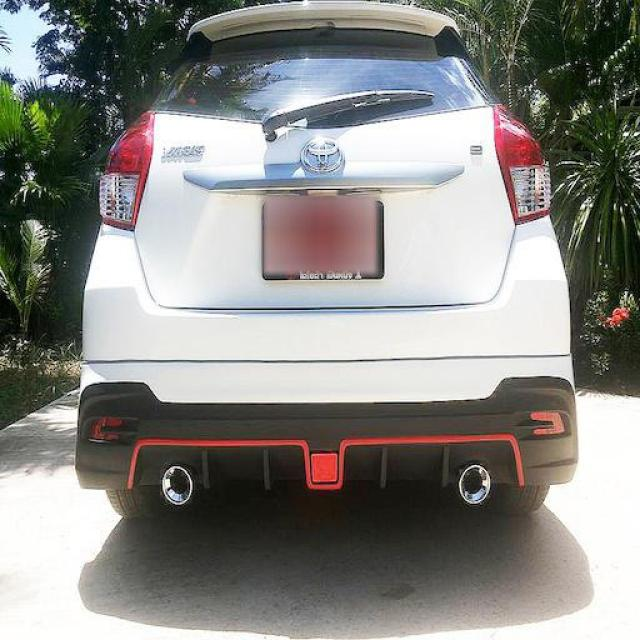back_bumper: (75, 216, 580, 490)
back_glass: (146, 27, 502, 128)
back_left_light: (100, 112, 154, 231)
back_right_light: (495, 106, 548, 227)
trunk: (133, 106, 515, 310)
wheel: (105, 487, 172, 520), (479, 487, 550, 513)
